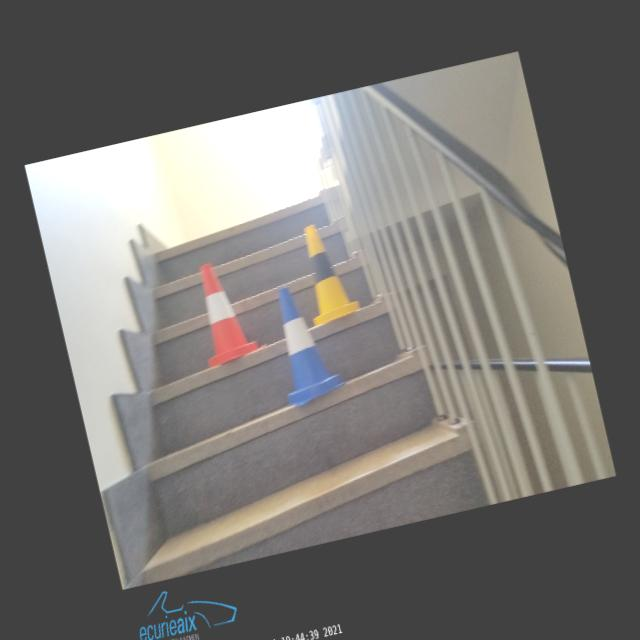blue_cone: (260, 279, 349, 408)
orange_cone: (182, 254, 268, 369)
yellow_cone: (292, 218, 362, 326)
